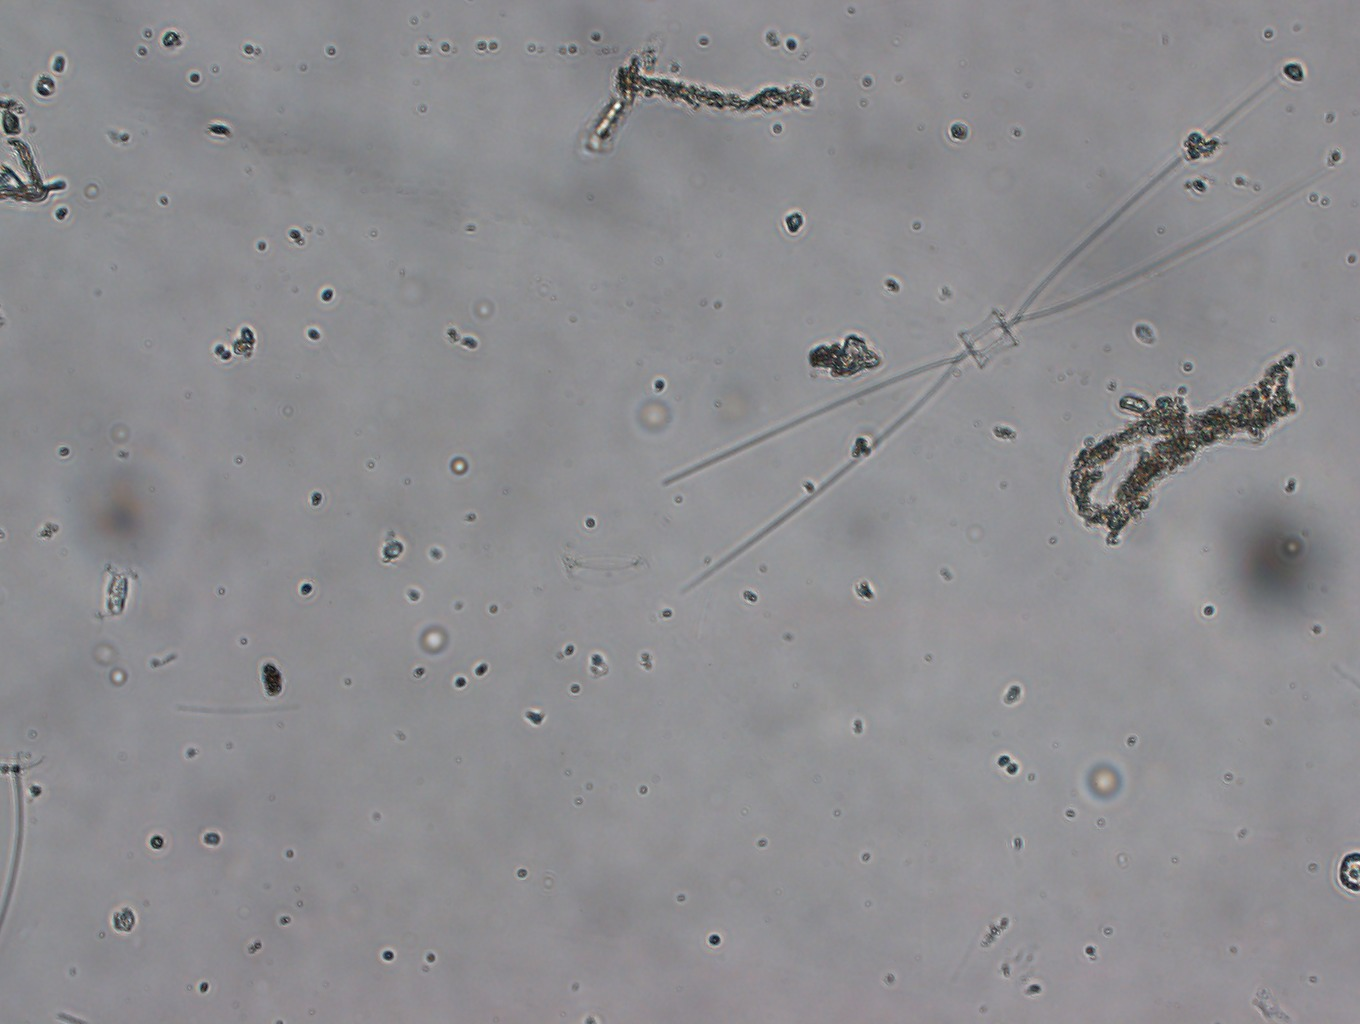chaetoceros: (632, 55, 1322, 597)
